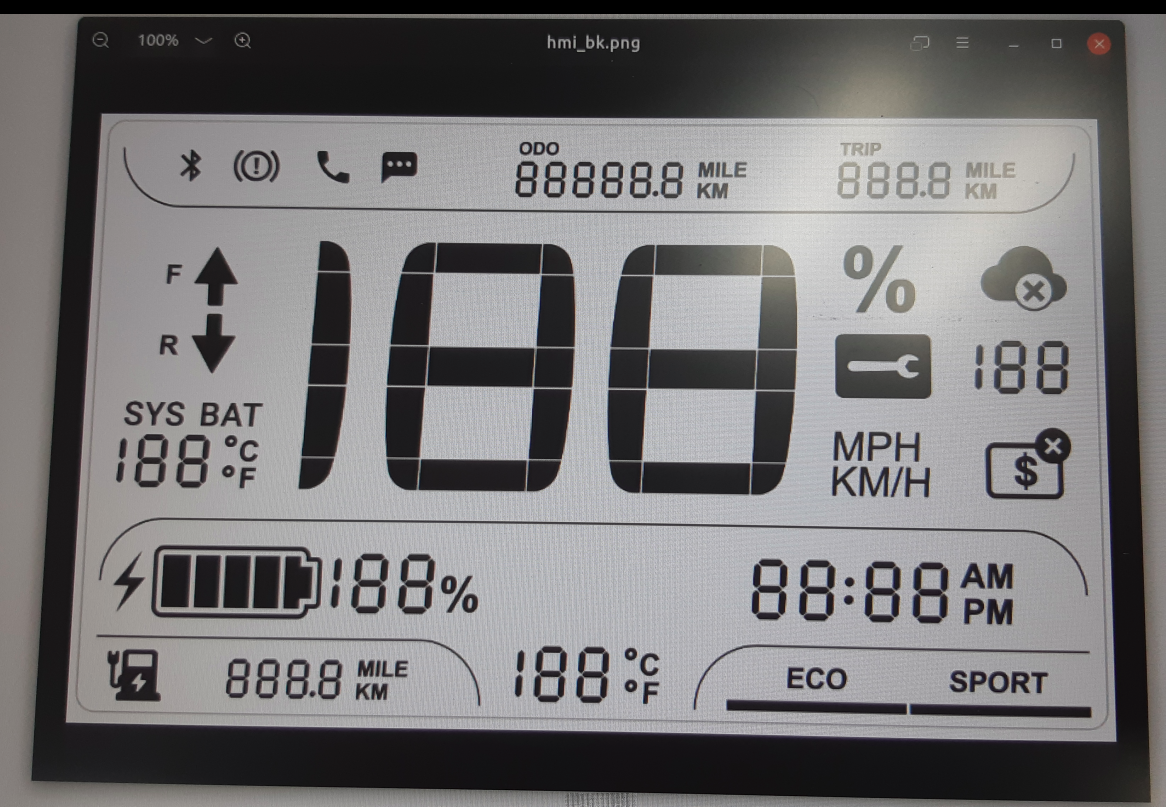bluetooth_on: (174, 145, 208, 188)
braking_on: (230, 144, 285, 186)
calling_on: (312, 146, 354, 186)
connection_lost: (975, 243, 1074, 316)
error_code: (830, 331, 937, 404)
low_battery: (102, 644, 165, 706)
sms_on: (376, 148, 421, 185)
vin_id: (982, 422, 1076, 506)
